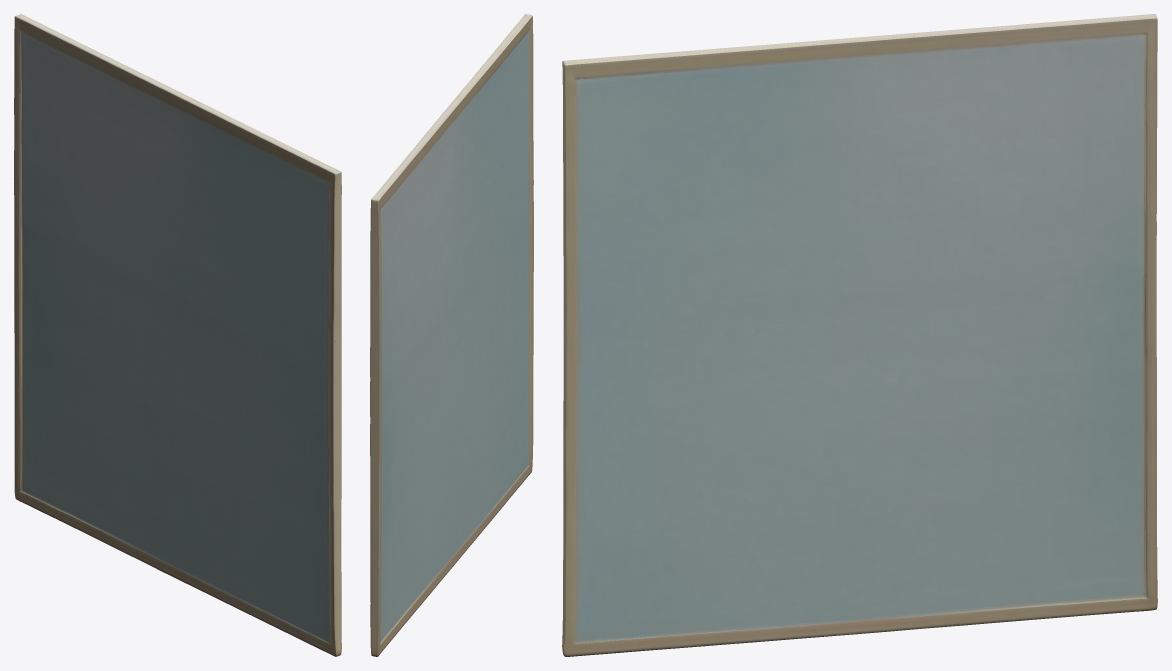
The model's file is triptych_wall_art_on_left_wall_000.glb.
3 views of the same model, side by side, from view 1: azimuth 30°, elevation 25°; view 2: azimuth 150°, elevation 25°; view 3: azimuth 270°, elevation 25° (orthographic). The views are drawn at different scales.
Parts seen in each view (by area): view 1: phase2_final_triptych_wall_art_on_left_wall_000.obj; view 2: phase2_final_triptych_wall_art_on_left_wall_000.obj; view 3: phase2_final_triptych_wall_art_on_left_wall_000.obj.
Boxes of the visible parts, box(x1,y1,x2,y2) form: phase2_final_triptych_wall_art_on_left_wall_000.obj: box(14, 14, 341, 656); phase2_final_triptych_wall_art_on_left_wall_000.obj: box(370, 14, 533, 656); phase2_final_triptych_wall_art_on_left_wall_000.obj: box(562, 14, 1157, 656).
Bounding box in the file's own units: 0.0984 × 0.5192 × 0.4726.
1 material, 1 textured.
